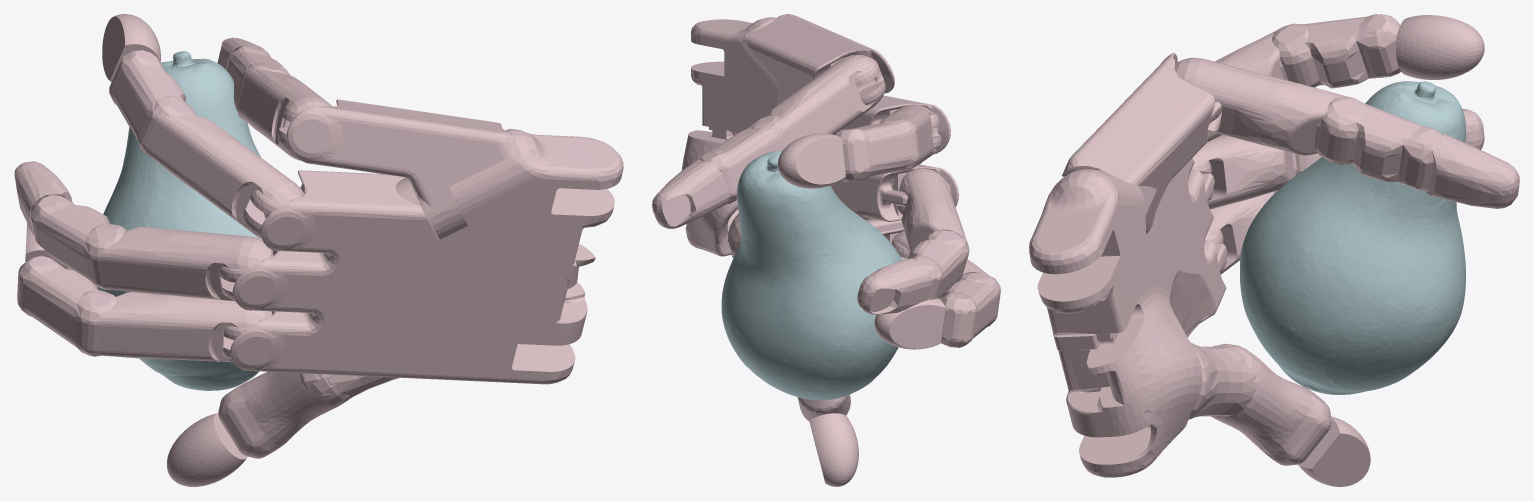
Rendered from grasp_0.glb.
3 views of the same model, side by side, from view 1: azimuth 30°, elevation 25°; view 2: azimuth 150°, elevation 25°; view 3: azimuth 270°, elevation 25° (orthographic). The views are drawn at different scales.
Parts seen in each view (by area): view 1: world; view 2: world; view 3: world.
Boxes of the visible parts, x1,y1,x2,y2 form: world: (14, 14, 623, 486); world: (652, 14, 1000, 486); world: (1029, 14, 1519, 486).
Size of the model in its own units: 0.1613 by 0.1459 by 0.1425.
